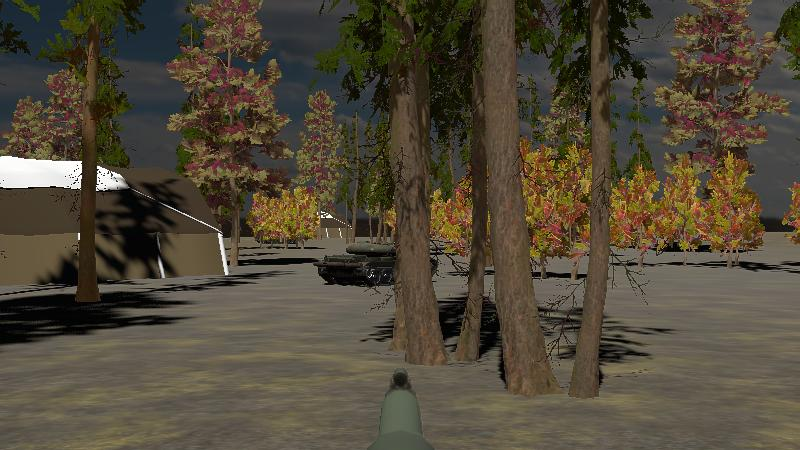Tank: (311, 236, 462, 292)
